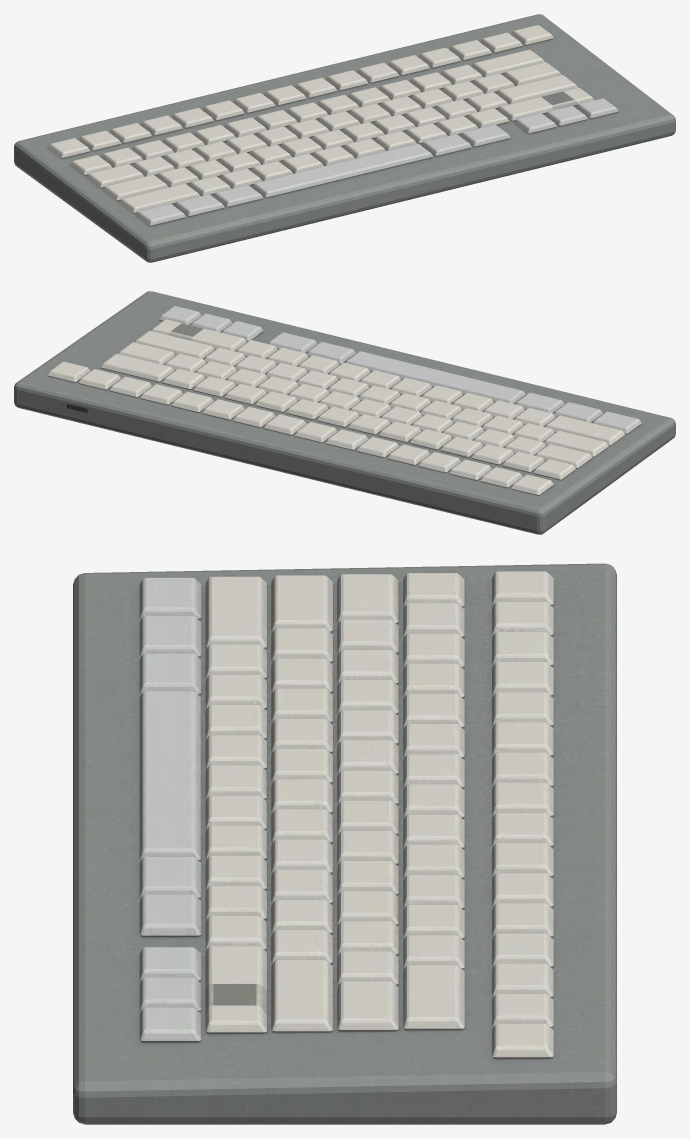
Rendered from keyboard-g.glb.
3 renders of one model, top to bottom at view 1: azimuth 30°, elevation 25°; view 2: azimuth 150°, elevation 25°; view 3: azimuth 270°, elevation 25°, orthographic. The views are drawn at different scales.
Visible parts, largest first — view 1: case-baked; view 2: case-baked; view 3: case-baked.
Boxes of the visible parts, x1,y1,x2,y2 form: case-baked: (14,14,675,262); case-baked: (14,291,675,534); case-baked: (73,563,616,1124).
Bounding box in the file's own units: 0.279 × 0.0154 × 0.124.
1 material, 1 textured.
